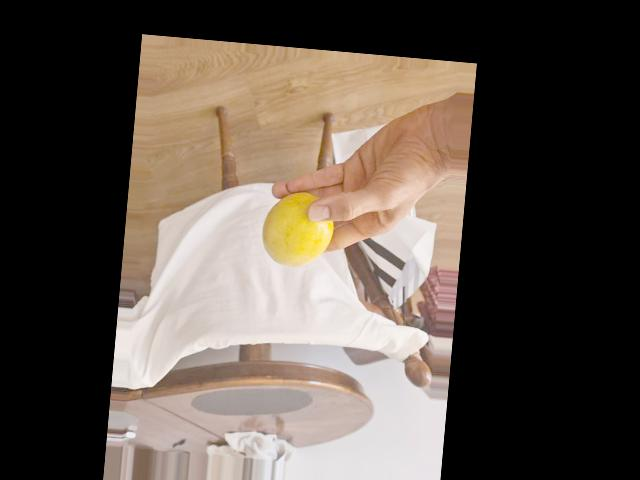lemon: (261, 191, 332, 268)
